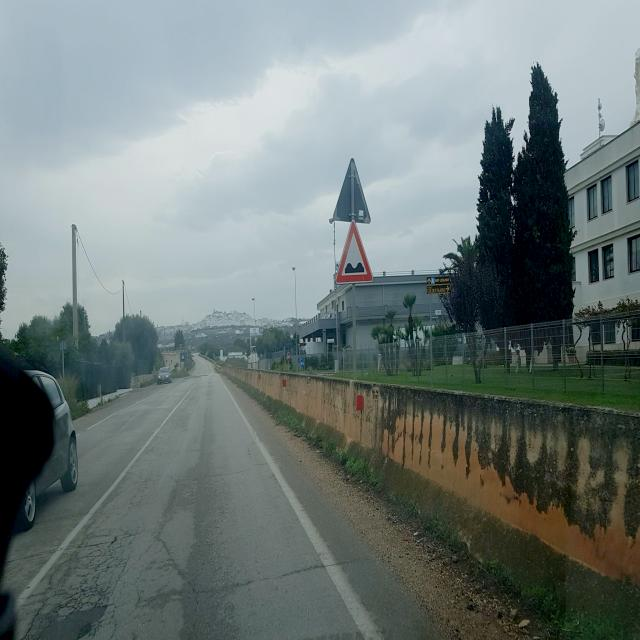car: (16, 367, 78, 530), (157, 366, 172, 384)
